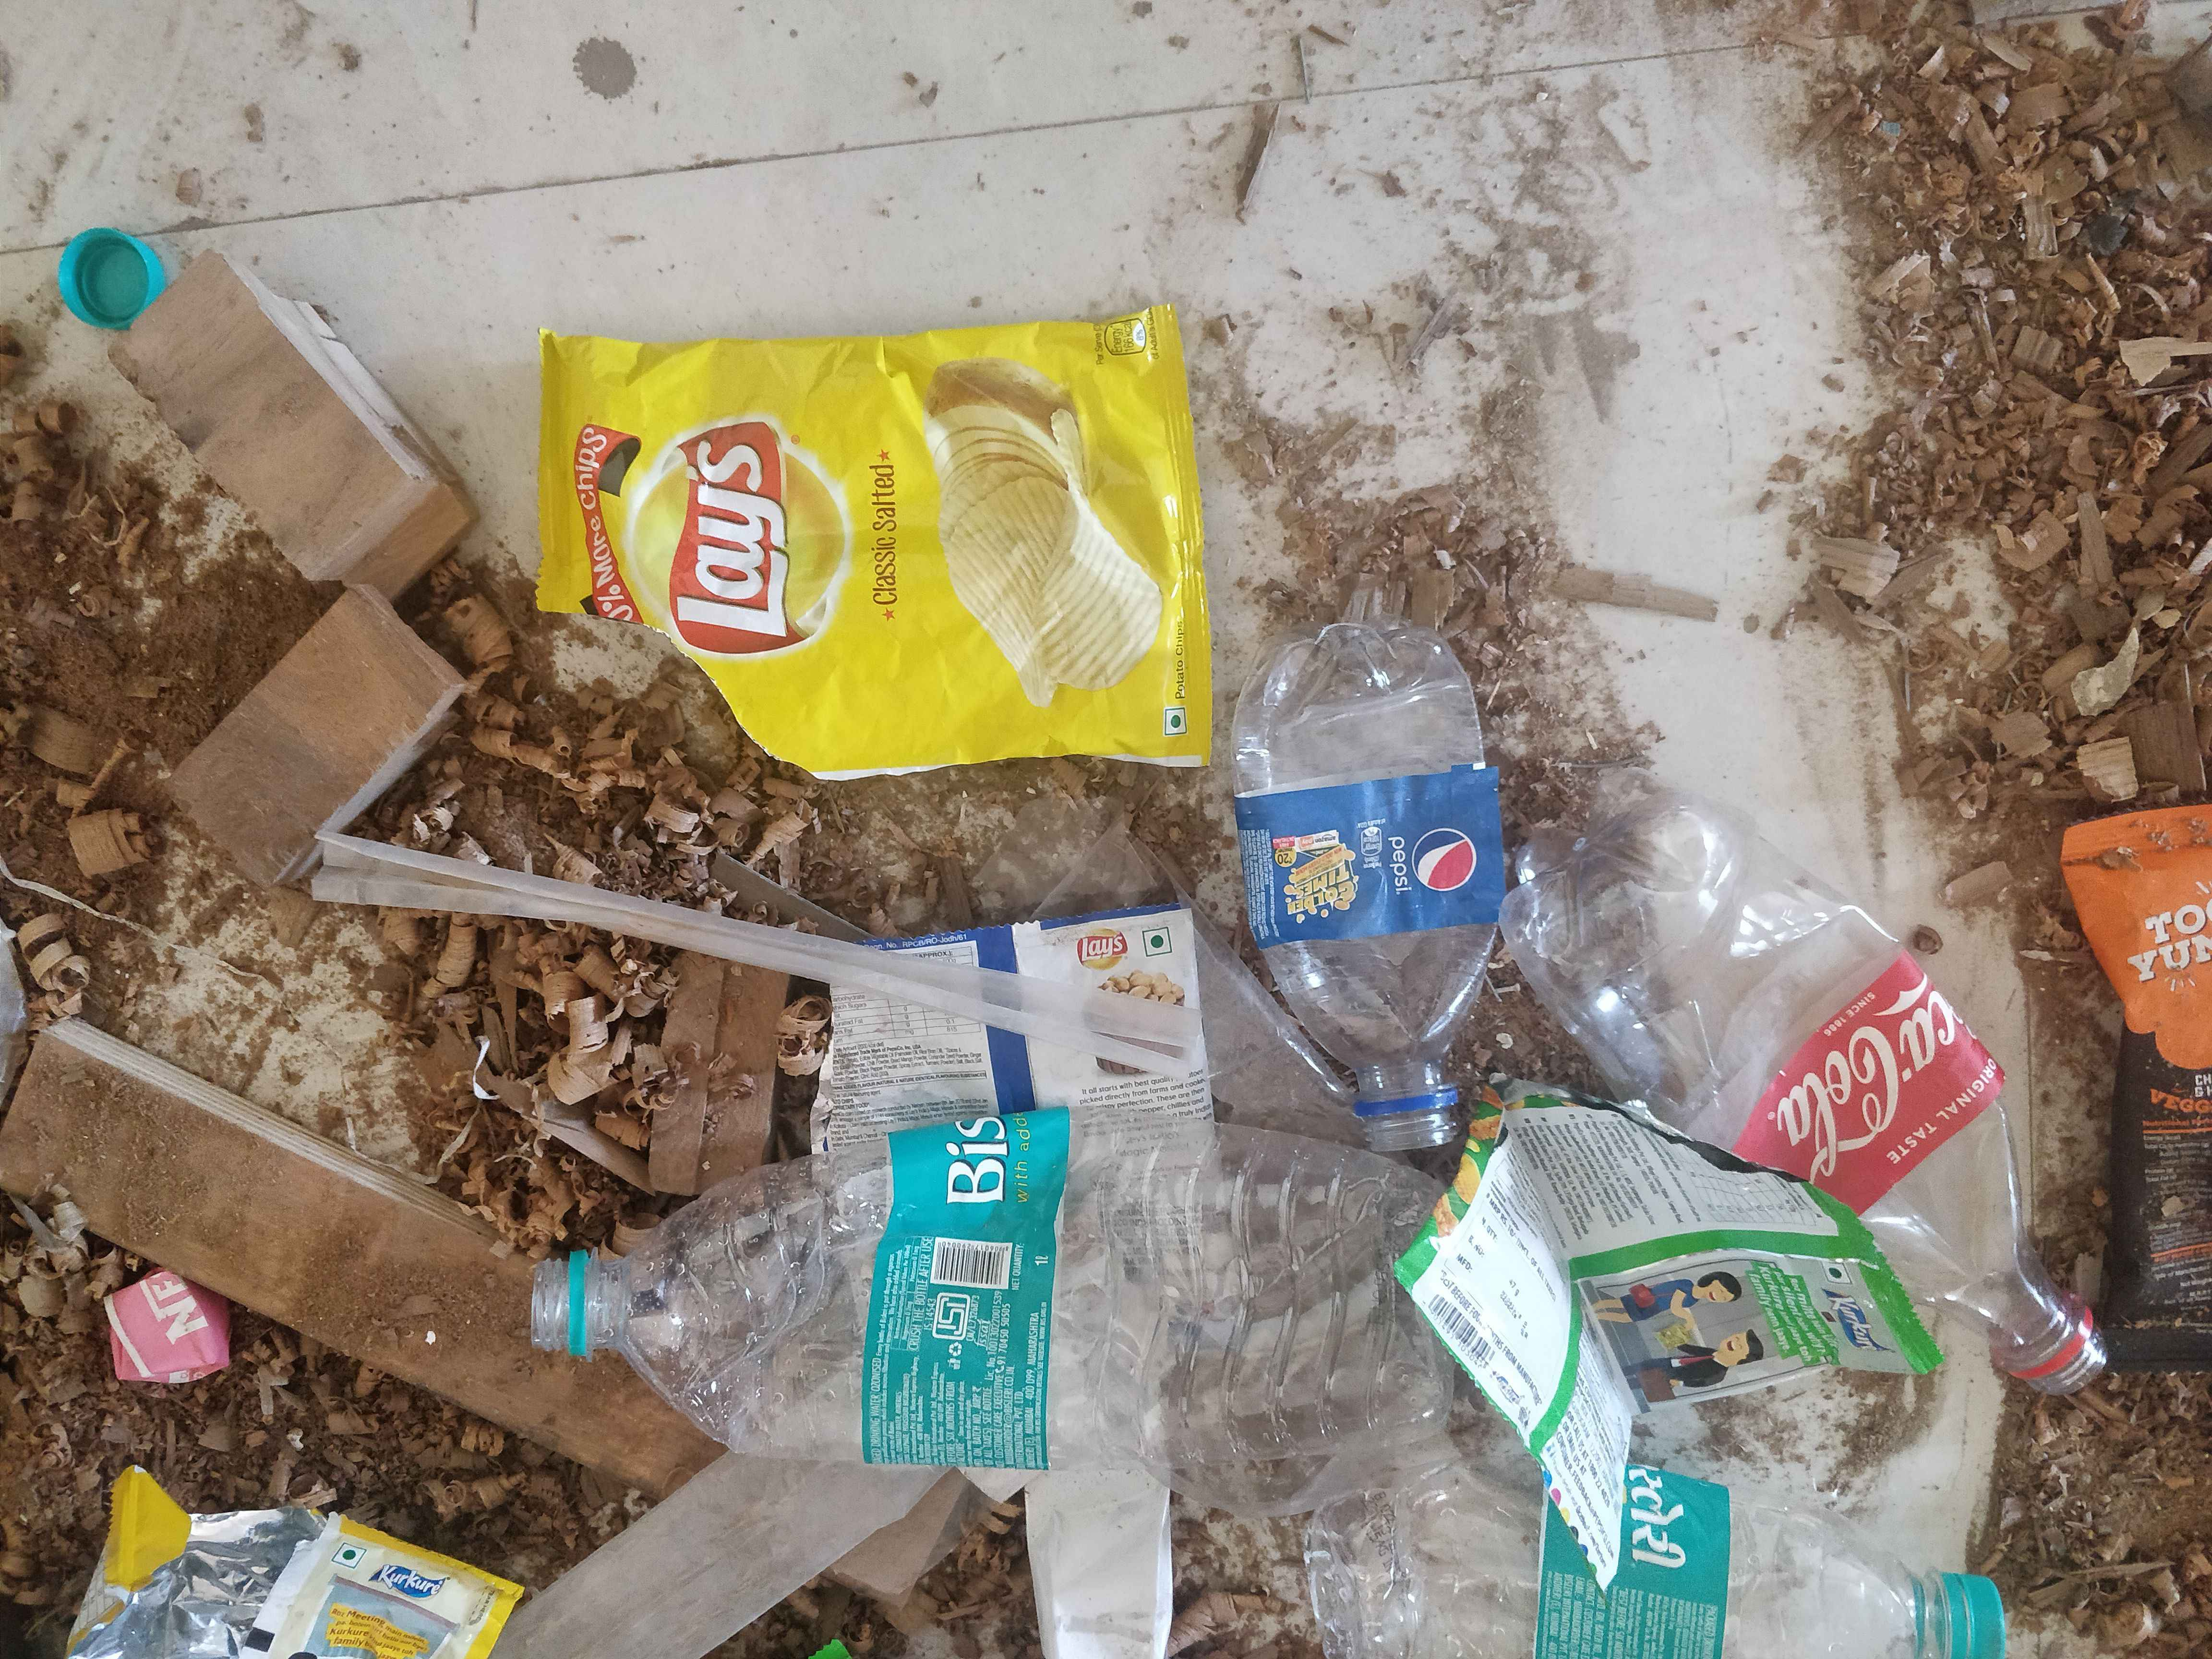Bisleri: (911, 1115, 1052, 1303)
Coca-Cola: (1763, 992, 1959, 1164)
Lays: (618, 394, 866, 669), (1061, 924, 1137, 979)
kurkure: (1808, 1267, 1898, 1368), (362, 1558, 481, 1608)
pepsi: (1331, 798, 1498, 913)
tooyumm: (2128, 887, 2212, 1006)
